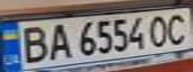4: (127, 15, 151, 51)
5: (93, 17, 115, 55), (112, 16, 133, 53)
6: (72, 18, 96, 56)
A: (45, 20, 72, 61)
B: (15, 22, 51, 64)
C: (163, 10, 193, 46)
O: (145, 12, 172, 48)
